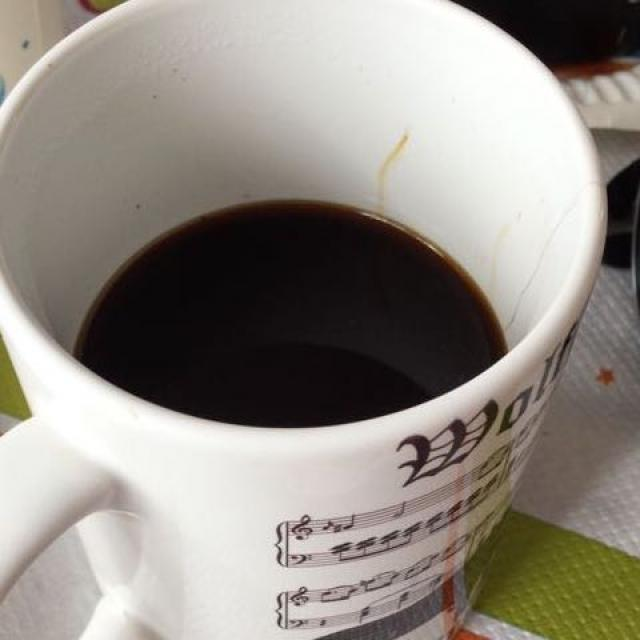coffee: (77, 203, 495, 423)
